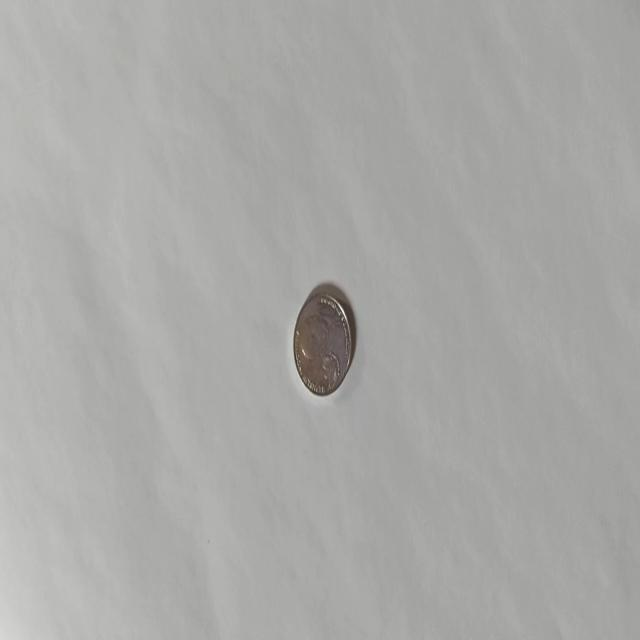lima ratus rupiah: (292, 287, 352, 397)
